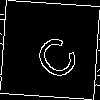C: (25, 25, 83, 84)
